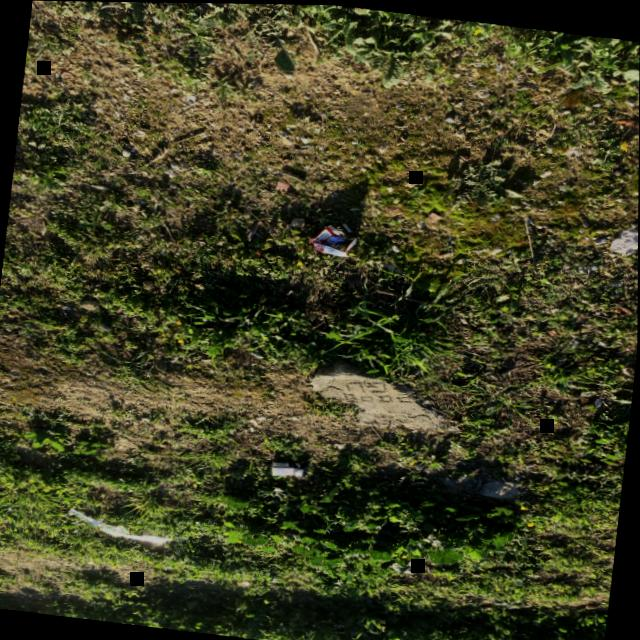Cigarette: (342, 221, 352, 231)
Other carton: (310, 223, 357, 256), (272, 460, 309, 476)
Plastic film: (70, 508, 172, 543)
